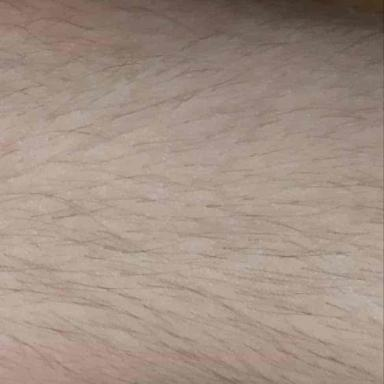normal skin: (0, 1, 384, 382)
